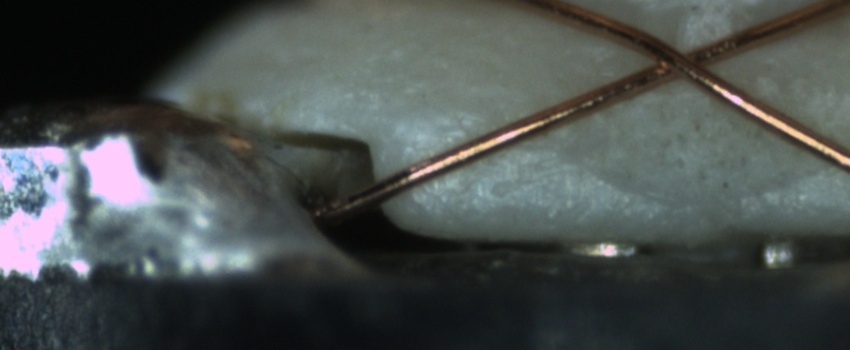CL: (628, 28, 725, 89)
